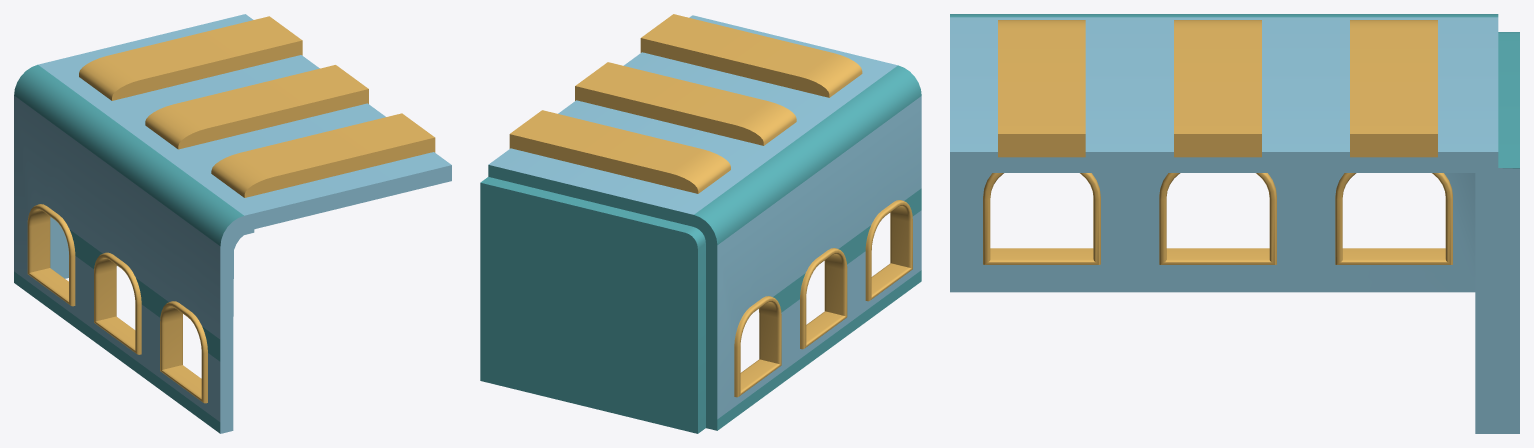
File: techo_1.fbx
3 views of the same model, side by side, from view 1: azimuth 30°, elevation 25°; view 2: azimuth 150°, elevation 25°; view 3: azimuth 270°, elevation 25° (orthographic). The views are drawn at different scales.
Visible parts, largest first — view 1: Cylinder.012; view 2: Cylinder.012; view 3: Cylinder.012.
Boxes of the visible parts, x1=… form: Cylinder.012: x1=14, y1=14, x2=451, y2=433; Cylinder.012: x1=480, y1=14, x2=921, y2=433; Cylinder.012: x1=950, y1=14, x2=1519, y2=433.
Size of the model in its own units: 827 by 755 by 1296.
